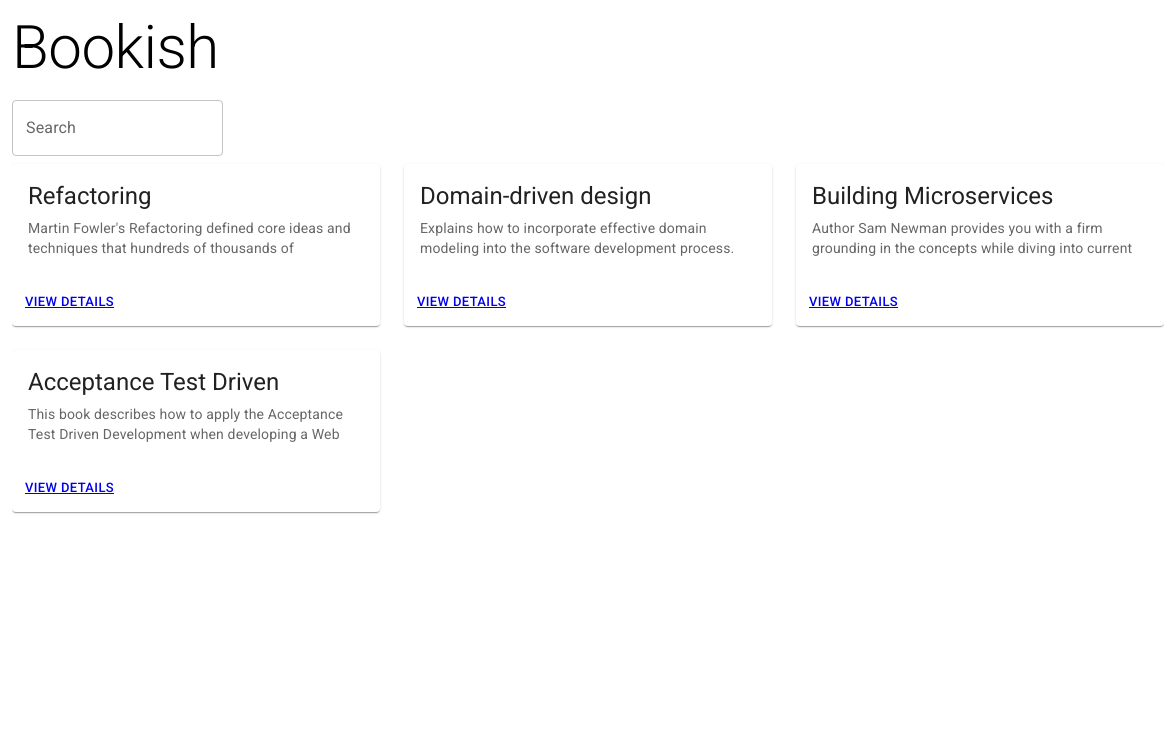
Test case: Bookish application › should searches for a title
In the field labelled "Search": (118, 128) [12,100,223,156], type "design"
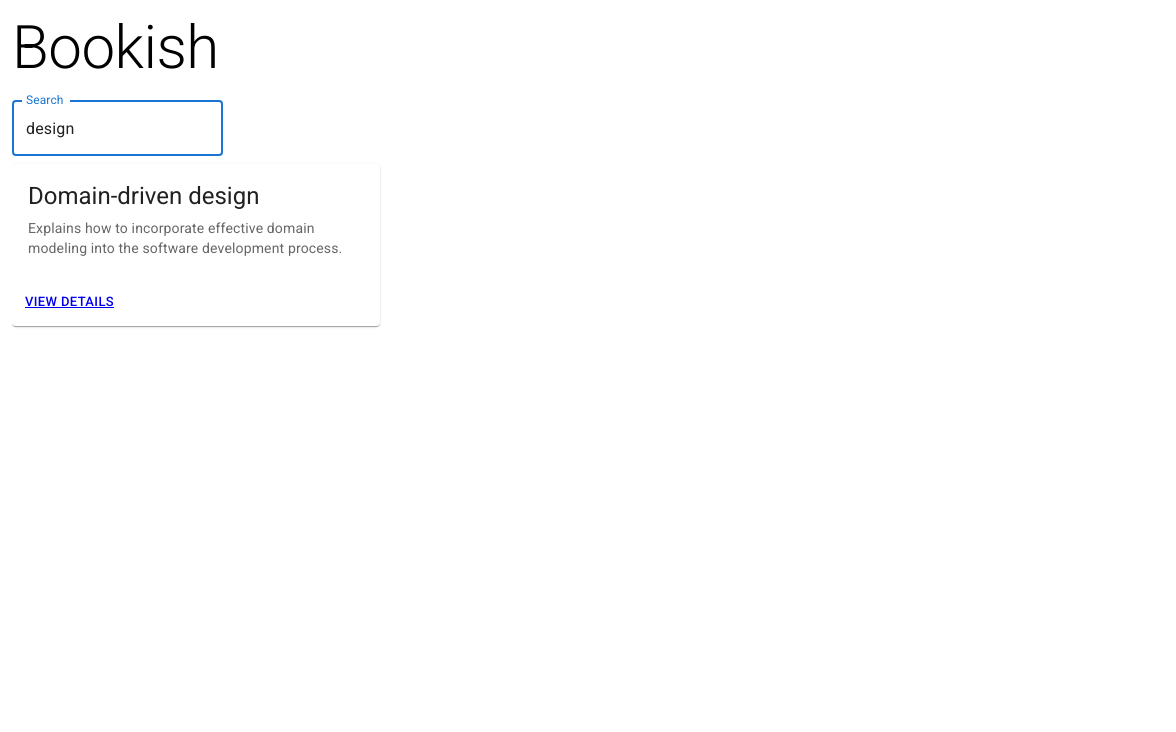
Expected: the button "Domain-driven design" is shown, [12,164,380,279]
Result: the number of elements with test id "book-item" is 1 at [12,140,380,326]
